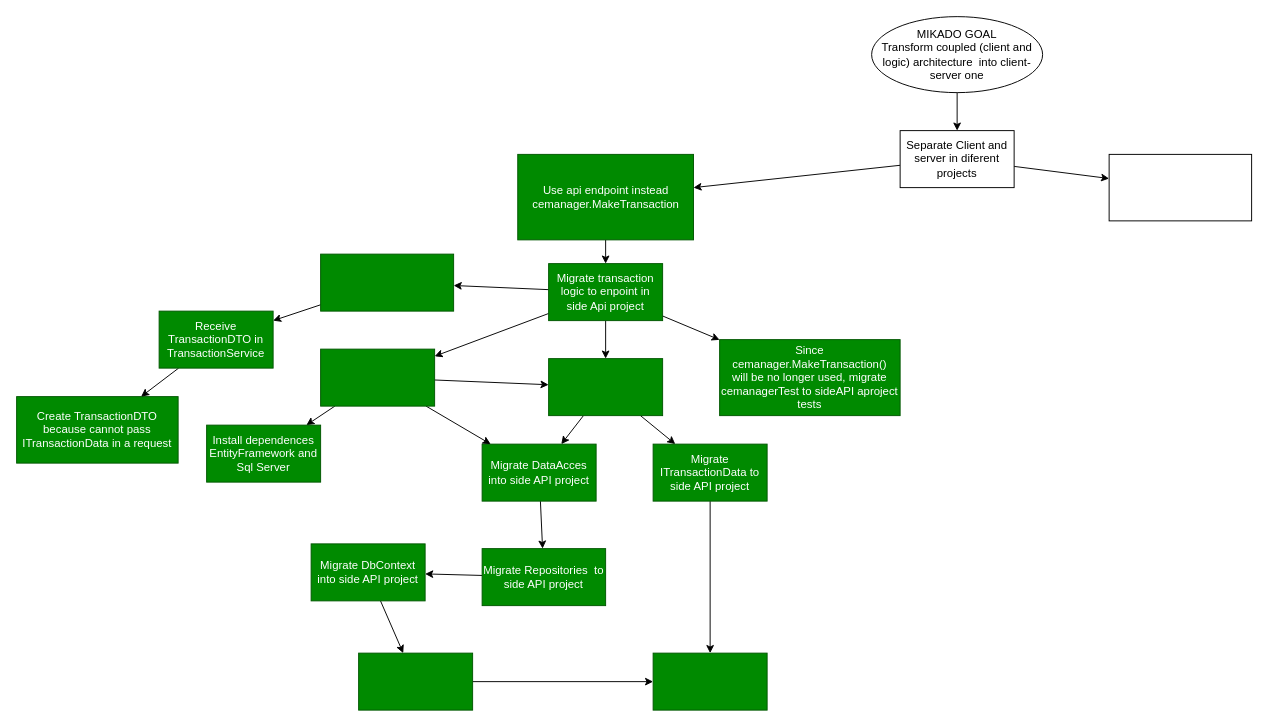
The diagram is 1268 pixels wide and 727 high, and some of its shapes have lost their labels. Here are the shapes that lost their labels. From the top down, the centre of each, then its label:
At pixel 1180 187: "Use api enpoint instead cemanager.ShowReport".
At pixel 387 282: "Receive from request TransactionDTO instead ITransactionData".
At pixel 377 377: "Configure web host and services".
At pixel 605 387: "Migrate transaction logic into services layers in side API project".
At pixel 415 681: "Migrate Models into side Api project".
At pixel 709 681: "Migrate Util.RequestType into side Api project".
